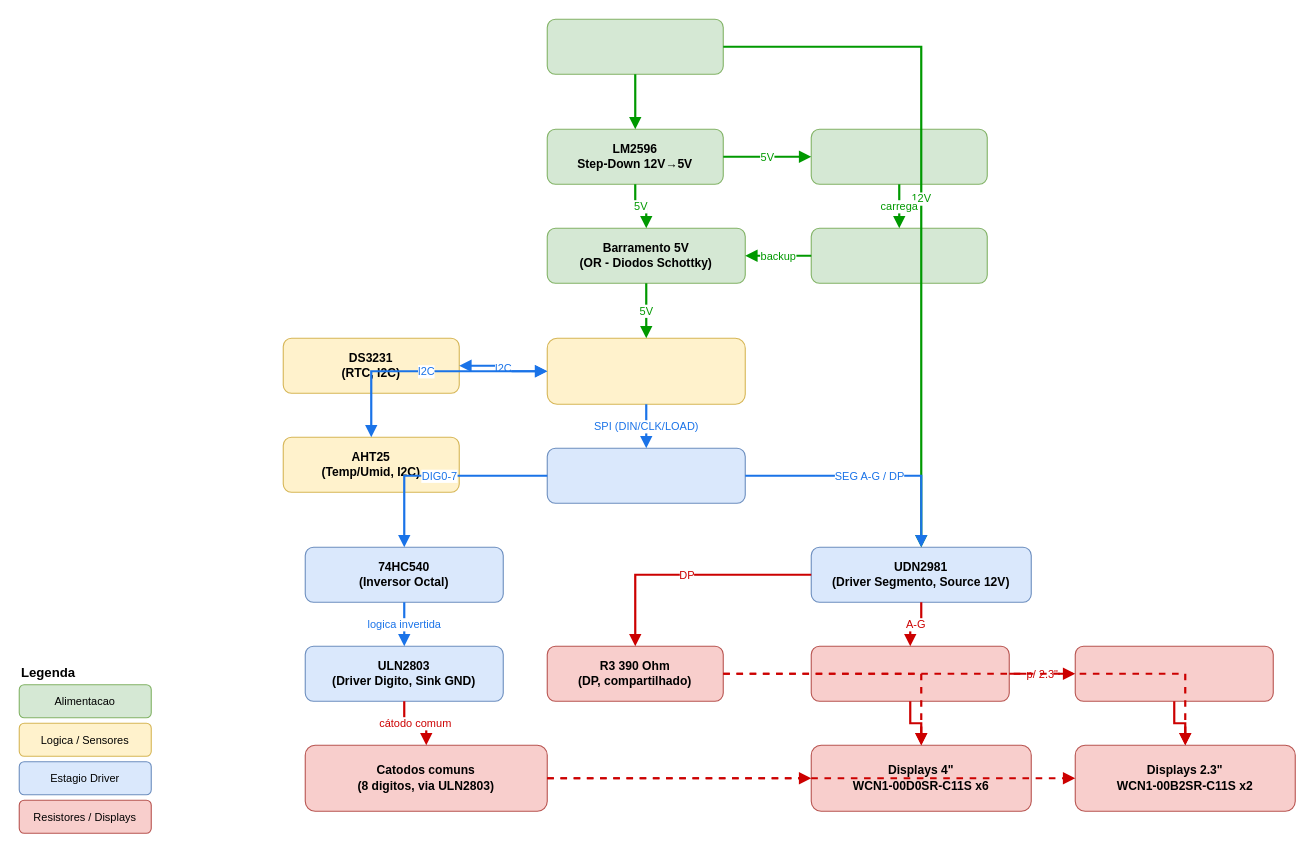
The diagram is 1315 pixels wide and 853 high, and some of its shapes have lost their labels. Each missing label, with the centre of its shape:
Bateria Li-ion 3.7V: (x=898, y=255)
ESP32 (Wi-Fi / NTP / Logica): (x=645, y=370)
Fonte AC/DC 12V 3A: (x=634, y=46)
MAX7219 (Controlador, SPI): (x=645, y=475)
R1 33 Ohm x7 (barramento A-G): (x=909, y=673)
R2 47 Ohm x7 (trim serie p/ 2.3"): (x=1173, y=673)
TP4056 Carregador Li-ion: (x=898, y=156)
